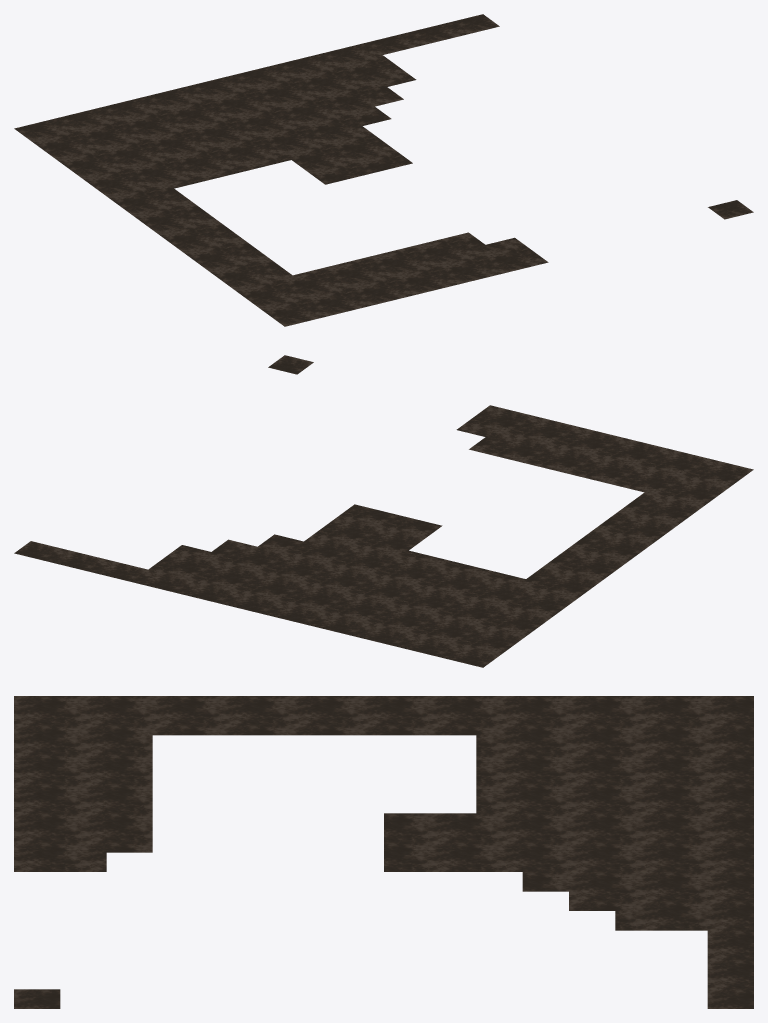
File: floor_0_-2.glb
3 views of the same model, one above another, from view 1: azimuth 30°, elevation 25°; view 2: azimuth 150°, elevation 25°; view 3: azimuth 270°, elevation 25° (orthographic). The views are drawn at different scales.
Visible parts, largest first — view 1: floor_0_-2; view 2: floor_0_-2; view 3: floor_0_-2.
Boxes of the visible parts, x1,y1,x2,y2 form: floor_0_-2: [14, 14, 753, 326]; floor_0_-2: [14, 355, 753, 667]; floor_0_-2: [14, 696, 753, 1008].
Size of the model in its own units: 64 by 0 by 64.
1 material, 1 textured.
